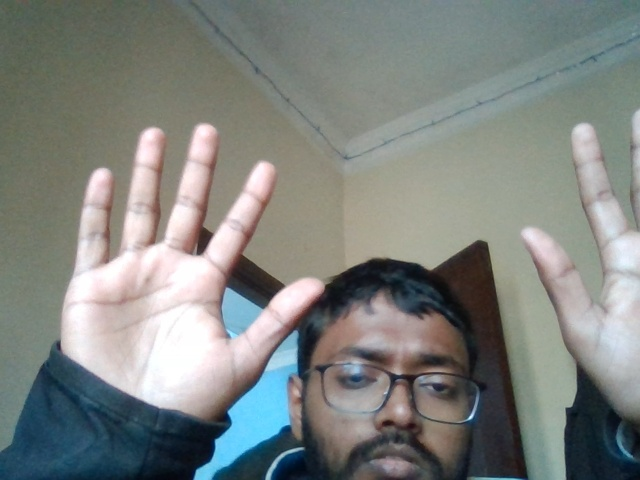Hello: (24, 97, 325, 424), (510, 83, 640, 430)
